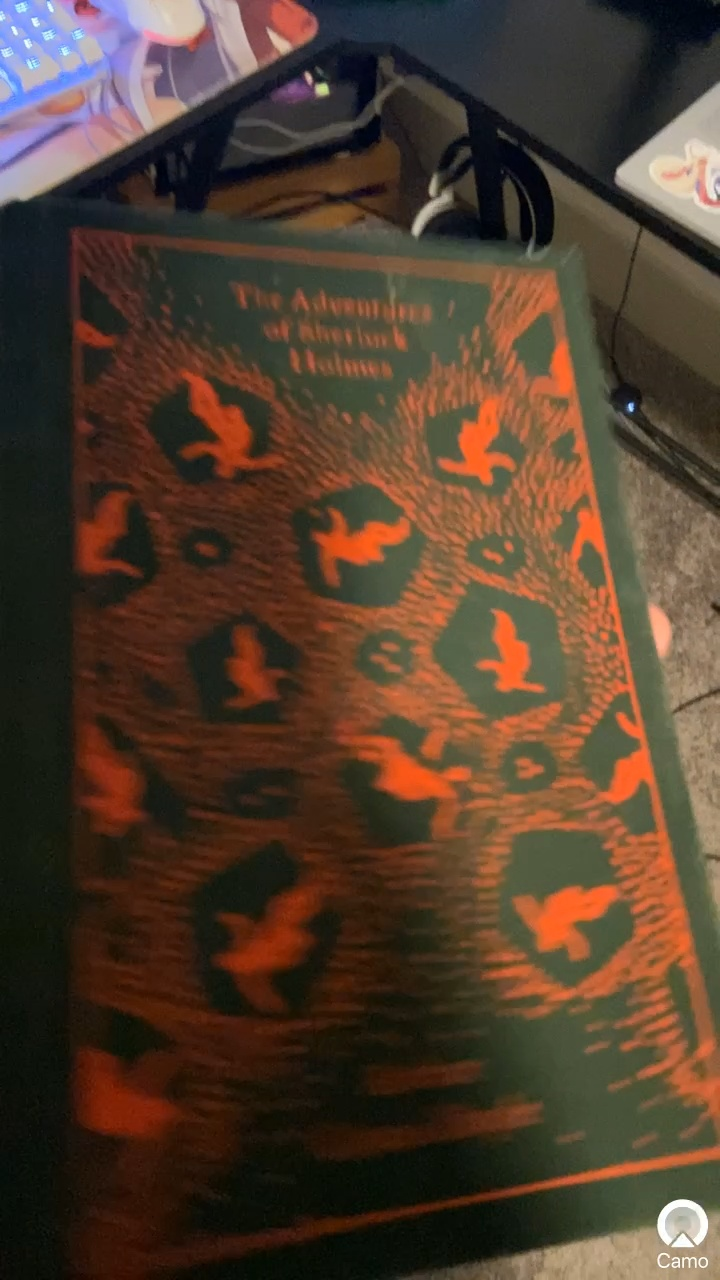Book: (1, 193, 720, 1256)
